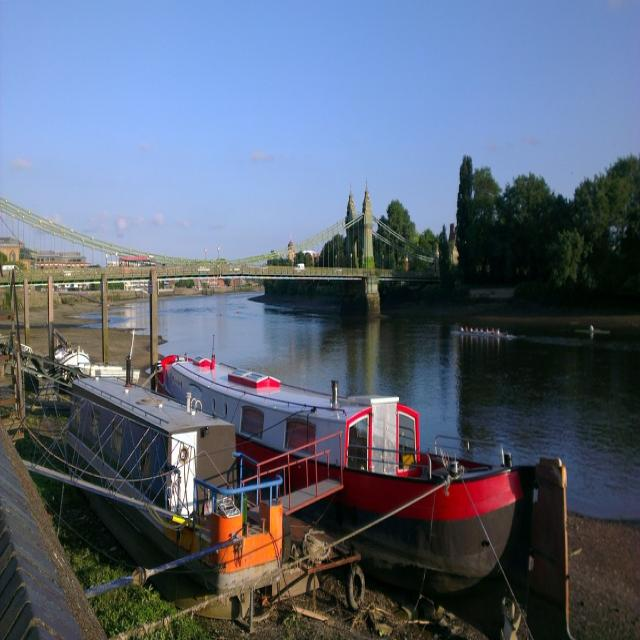Boat: (153, 326, 528, 616), (65, 381, 252, 571)
